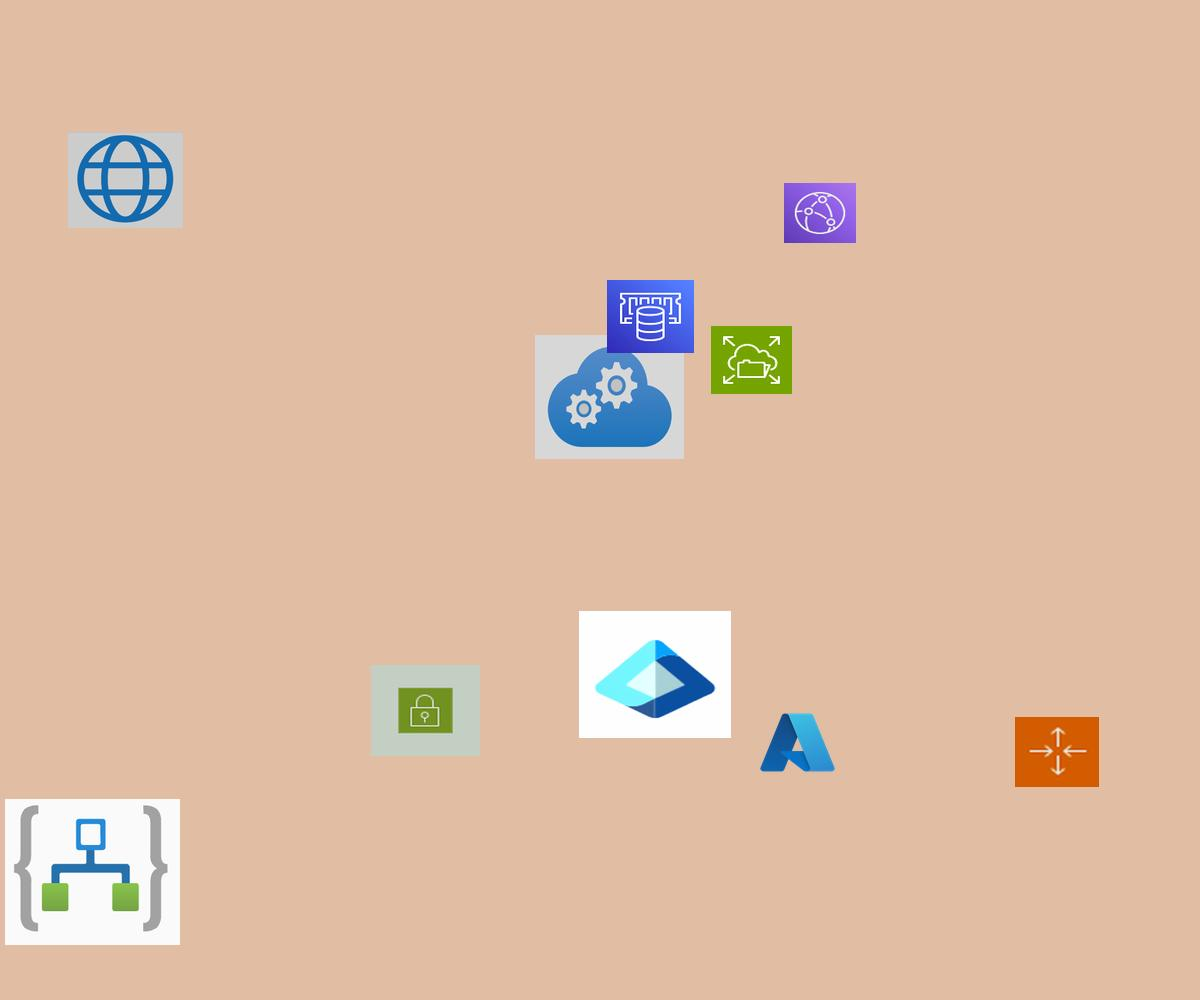AWS-CloudFront: (784, 183, 856, 243)
AWS-EFS: (711, 326, 792, 394)
AWS-ElastiCache: (607, 280, 694, 353)
AWS-Public-subnet: (371, 665, 480, 756)
AWS-Scaling-group: (1015, 717, 1099, 787)
Azure_cloud_services: (535, 335, 684, 459)
Azure_http: (68, 132, 183, 228)
Azure_integration-204-Logic-Apps: (5, 799, 180, 945)
Azure_microsoft_entra: (579, 611, 731, 738)
Azure_services: (757, 709, 838, 776)
